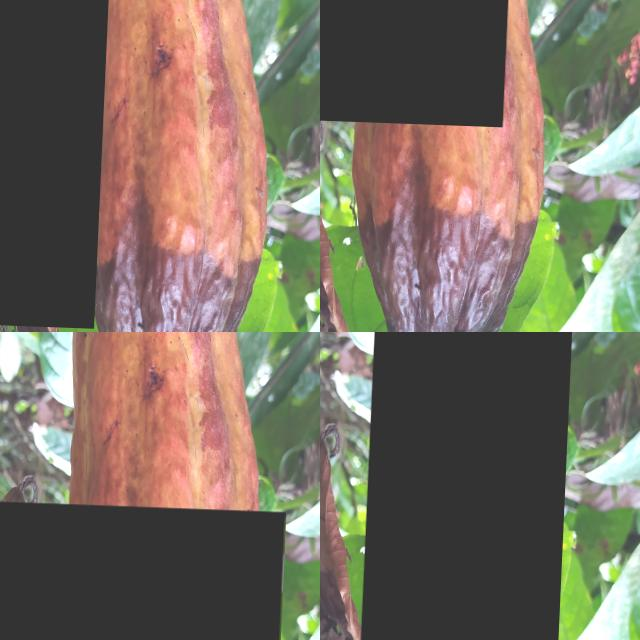Fitoftora: (364, 332, 581, 640), (0, 0, 115, 326), (320, 0, 516, 124)
Monilia: (0, 496, 289, 640)
